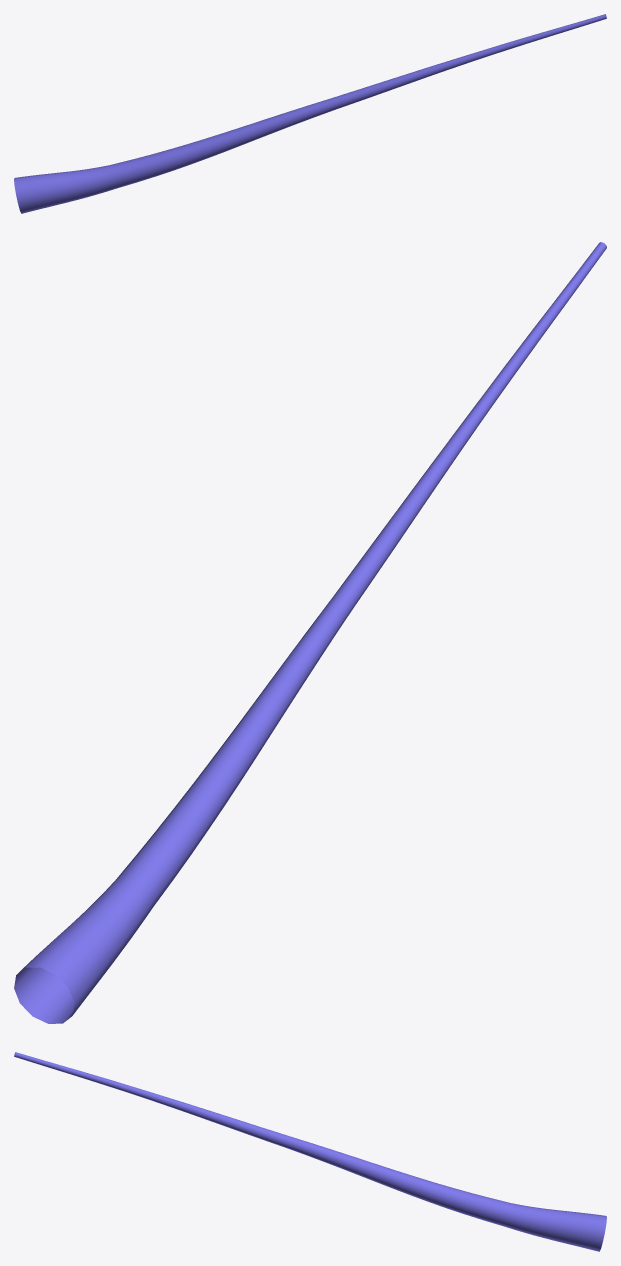
Rendered from Straight_sinus.glb.
The picture shows the model from 3 angles, top to bottom: view 1: azimuth 90°, elevation 25°; view 2: azimuth 150°, elevation 25°; view 3: azimuth 270°, elevation 25°; orthographic projection. The views are drawn at different scales.
Visible parts, largest first — view 1: Straight_sinus_BezierCurve.468; view 2: Straight_sinus_BezierCurve.468; view 3: Straight_sinus_BezierCurve.468.
Part boxes in pixels (x1,y1,x2,y2): Straight_sinus_BezierCurve.468: (14, 14, 606, 213); Straight_sinus_BezierCurve.468: (14, 242, 606, 1023); Straight_sinus_BezierCurve.468: (14, 1052, 606, 1251).
Bounding box in the file's own units: 0.003 × 0.0178 × 0.0483.
